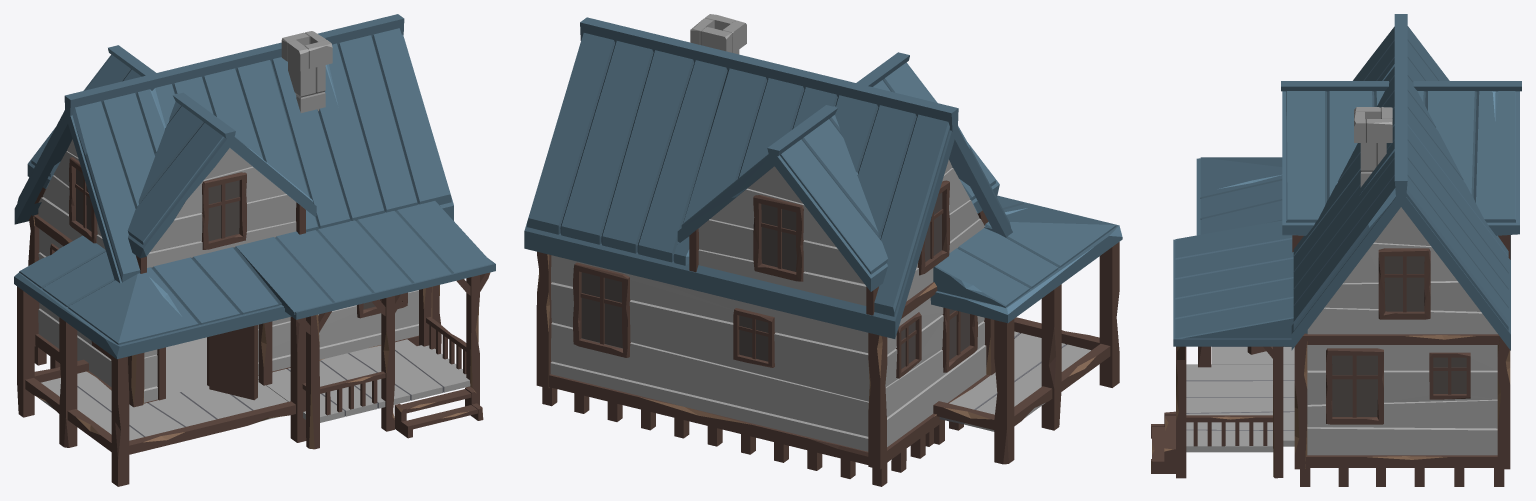
The model's file is HOUSE DETACHED.fbx.
3 renders of one model, left to right at view 1: azimuth 30°, elevation 25°; view 2: azimuth 150°, elevation 25°; view 3: azimuth 270°, elevation 25°, orthographic. The views are drawn at different scales.
Visible parts, largest first — view 1: polySurface7, polySurface13, polySurface11, polySurface43, polySurface57, polySurface8, polySurface14, polySurface9, door, polySurface101, polySurface10, polySurface18 (+35 smaller); view 2: polySurface7, polySurface9, polySurface128, polySurface13, polySurface130, polySurface11, polySurface8, polySurface124, polySurface131, polySurface89, polySurface10, polySurface57 (+36 smaller); view 3: polySurface7, polySurface13, polySurface11, polySurface43, polySurface114, polySurface9, polySurface119, polySurface115, polySurface118, polySurface8, polySurface173, polySurface87 (+25 smaller).
Part boxes in pixels (box(x1,y1,x2,y2)): polySurface7: box(17, 28, 451, 282); polySurface13: box(19, 201, 491, 344); polySurface11: box(31, 55, 313, 244); polySurface43: box(258, 339, 470, 422); polySurface57: box(38, 371, 287, 440); polySurface8: box(64, 14, 404, 116); polySurface14: box(14, 272, 291, 359); polySurface9: box(14, 34, 453, 283); door: box(209, 325, 257, 400); polySurface101: box(258, 290, 418, 361); polySurface10: box(27, 54, 316, 258); polySurface18: box(129, 401, 295, 454); polySurface7: box(527, 33, 1010, 316); polySurface9: box(524, 42, 1012, 338); polySurface128: box(551, 322, 868, 436); polySurface13: box(933, 196, 1116, 307); polySurface130: box(629, 300, 869, 401); polySurface11: box(681, 63, 995, 274); polySurface8: box(580, 17, 958, 131); polySurface124: box(551, 255, 868, 352); polySurface131: box(550, 361, 868, 451); polySurface89: box(549, 374, 868, 464); polySurface10: box(677, 62, 999, 291); polySurface57: box(939, 331, 1090, 431); polySurface7: box(1293, 26, 1508, 330); polySurface13: box(1175, 157, 1307, 338); polySurface11: box(1286, 91, 1515, 222); polySurface43: box(1186, 364, 1294, 452); polySurface114: box(1307, 427, 1497, 455); polySurface9: box(1291, 197, 1510, 350); polySurface119: box(1307, 307, 1497, 334); polySurface115: box(1307, 399, 1497, 428); polySurface118: box(1307, 345, 1497, 370); polySurface8: box(1394, 14, 1407, 198); polySurface173: box(1332, 355, 1377, 416); polySurface87: box(1305, 455, 1497, 467).
Size of the model in its own units: 265 by 209 by 216.
